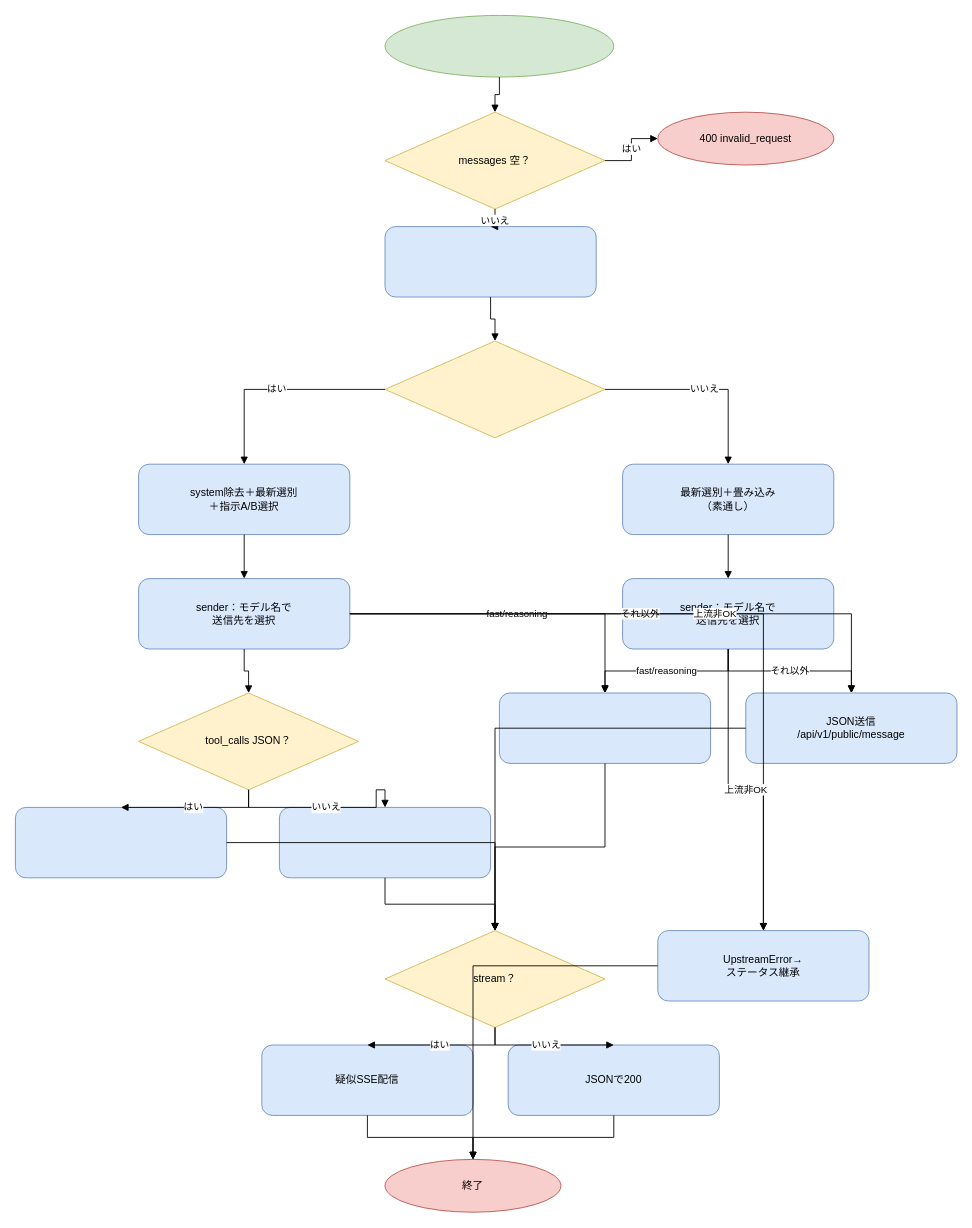
The diagram is 972 pixels wide and 1228 high, and some of its shapes have lost their labels. Each missing label, with the centre of its shape:
"multipart送信 /api/v1/chat/message" goes at (605,727).
"POST /v1/chat/completions" goes at (499,46).
"tool_calls を転送 (finish=tool_calls)" goes at (121,842).
"toolsあり && choice≠none？" goes at (494,389).
"本文を転送 (finish=stop)" goes at (385,842).
"正規化 ChatRequest ＋生ログ記録" goes at (490,261).
